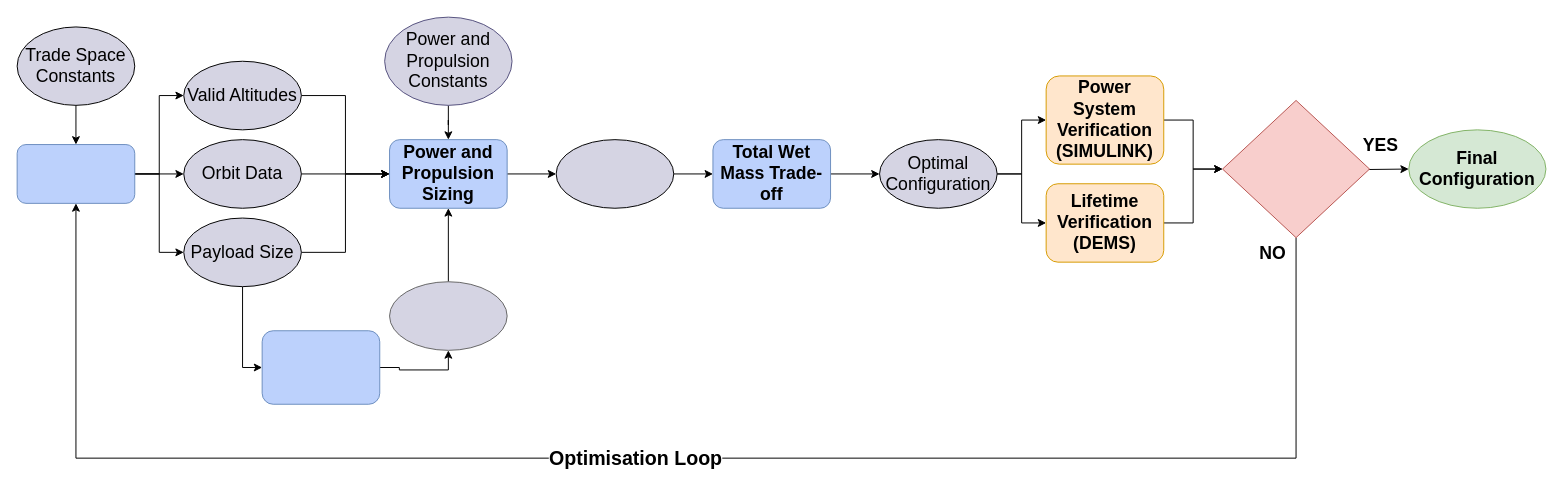
Image size: 1563x485. Some labels were removed from this diagram. Here are the shapes that lost their labels. From the top down, the box of each, then its label:
(16, 144, 135, 203): Trade Space
(555, 139, 674, 208): System Masses
(1222, 99, 1370, 238): Verification Passed?
(389, 281, 507, 350): Coefficient of Drag
(261, 330, 380, 404): Atmospheric Modelling (ADBSat)
